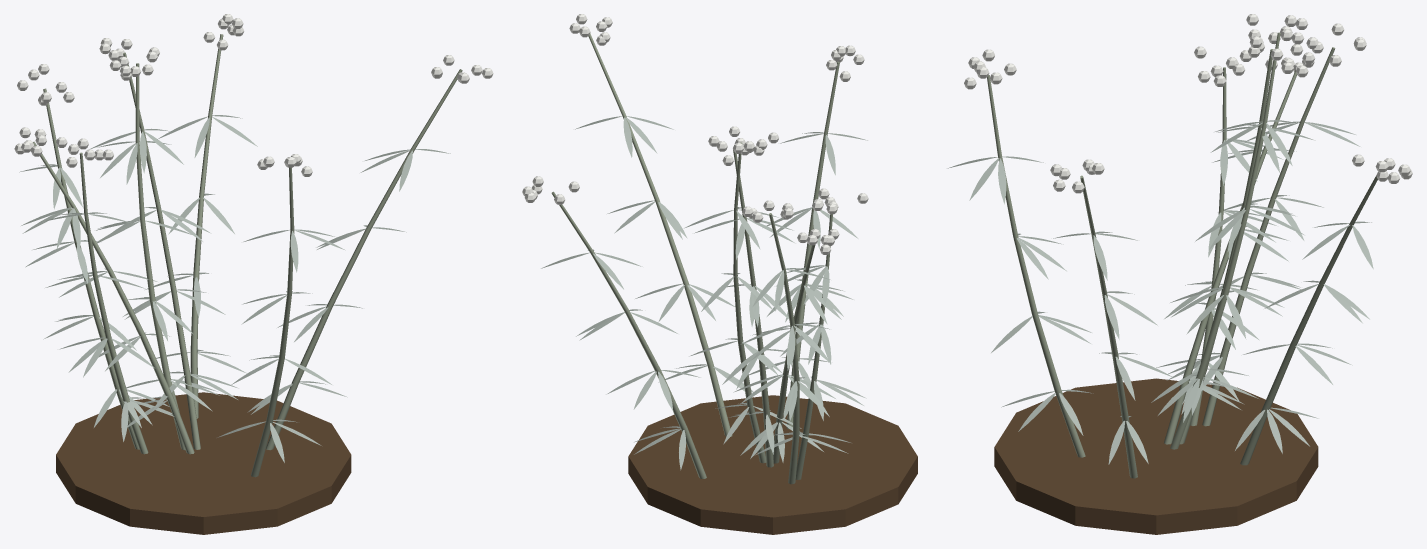
The model's file is nebelkraut.glb.
3 views of the same model, side by side, from view 1: azimuth 30°, elevation 25°; view 2: azimuth 150°, elevation 25°; view 3: azimuth 270°, elevation 25° (orthographic). The views are drawn at different scales.
Visible parts, largest first — view 1: nebelkraut; view 2: nebelkraut; view 3: nebelkraut.
Part boxes in pixels (x1,y1,x2,y2): nebelkraut: [14, 14, 493, 534]; nebelkraut: [522, 14, 917, 534]; nebelkraut: [947, 14, 1412, 534].
Bounding box in the file's own units: 0.4363 × 0.4411 × 0.4322.
